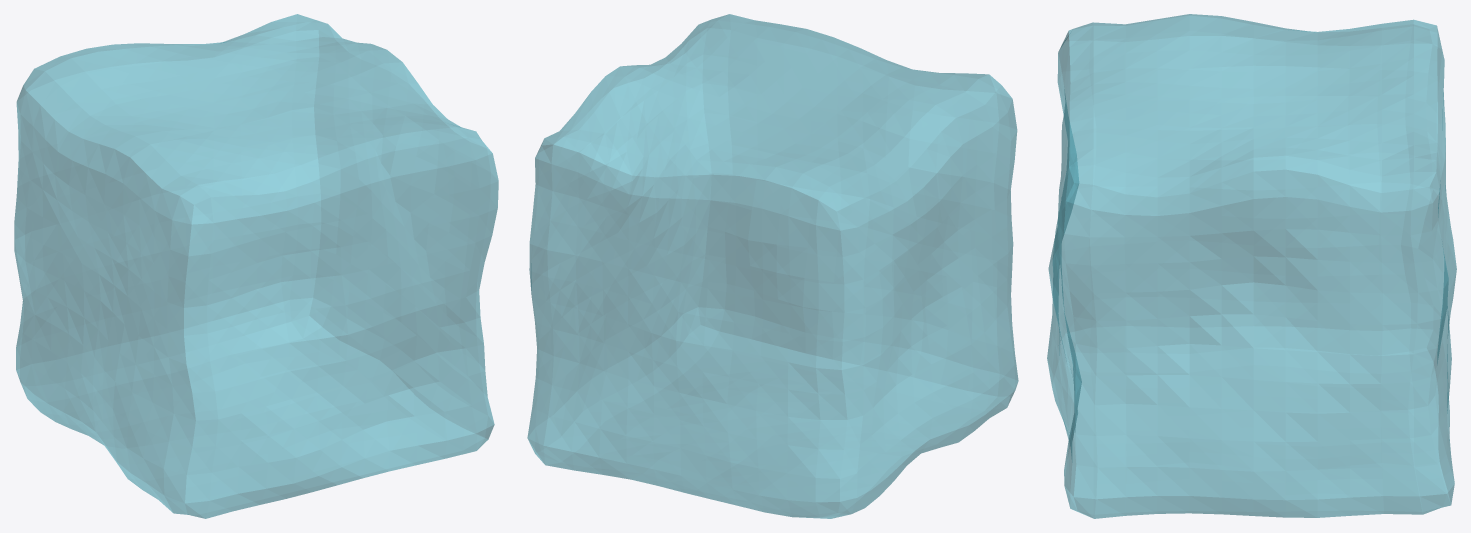
Rendered from Ice Cube.FBX.
The picture shows the model from 3 angles, left to right: view 1: azimuth 30°, elevation 25°; view 2: azimuth 150°, elevation 25°; view 3: azimuth 270°, elevation 25°; orthographic projection. The views are drawn at different scales.
Visible parts, largest first — view 1: Box001; view 2: Box001; view 3: Box001.
Boxes of the visible parts, x1=… form: Box001: x1=14, y1=14, x2=498, y2=518; Box001: x1=527, y1=14, x2=1018, y2=518; Box001: x1=1047, y1=14, x2=1456, y2=518.
Bounding box in the file's own units: 0.5764 × 0.5608 × 0.5695.
